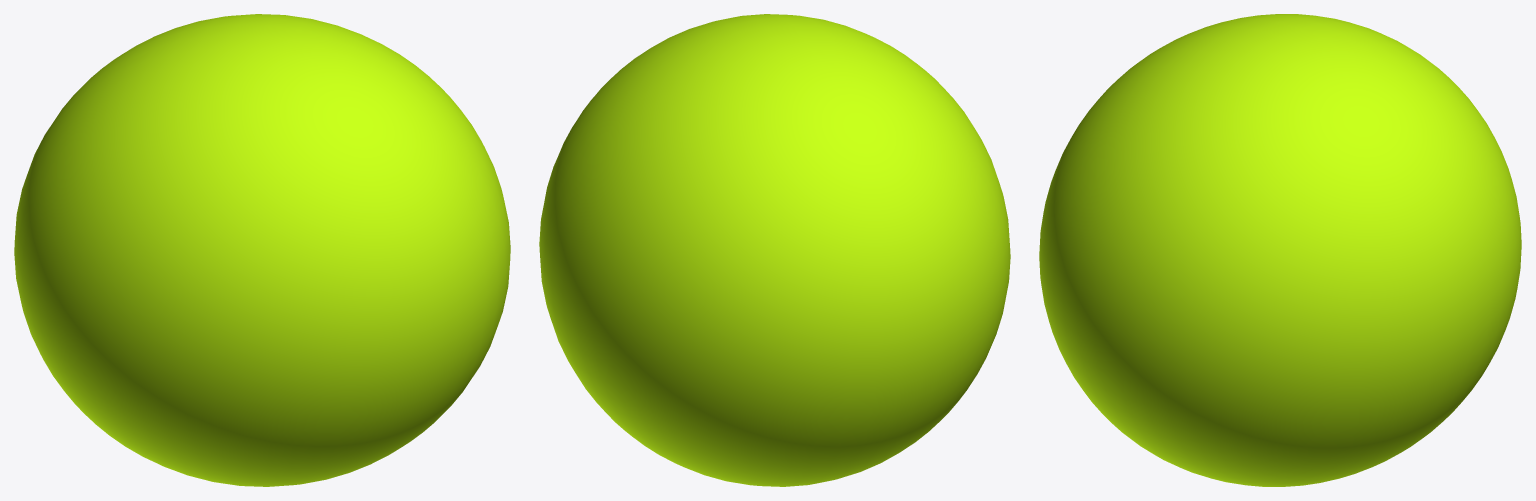
The model's file is ball.fbx.
3 renders of one model, left to right at view 1: azimuth 30°, elevation 25°; view 2: azimuth 150°, elevation 25°; view 3: azimuth 270°, elevation 25°, orthographic.
Visible parts, largest first — view 1: root; view 2: root; view 3: root.
Part boxes in pixels (<box>): root: <box>14,14,510,486</box>; root: <box>539,14,1010,486</box>; root: <box>1039,14,1521,486</box>.
Bounding box in the file's own units: 0.1723 × 0.1675 × 0.1714.
1 material, 1 textured.
